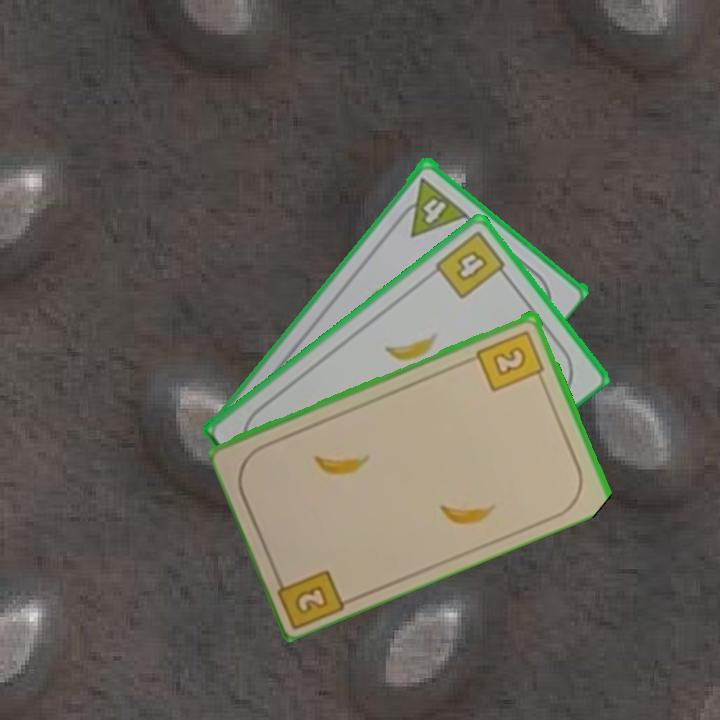2b: (473, 326, 547, 394), (271, 566, 350, 629)
4b: (431, 227, 513, 302)
4p: (392, 173, 470, 239)
